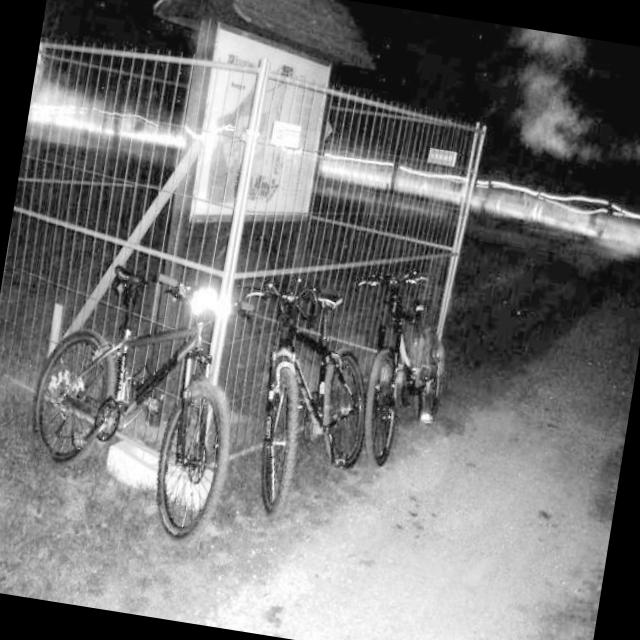Bicycle: (0, 267, 262, 553), (232, 255, 398, 550), (356, 234, 486, 508)
